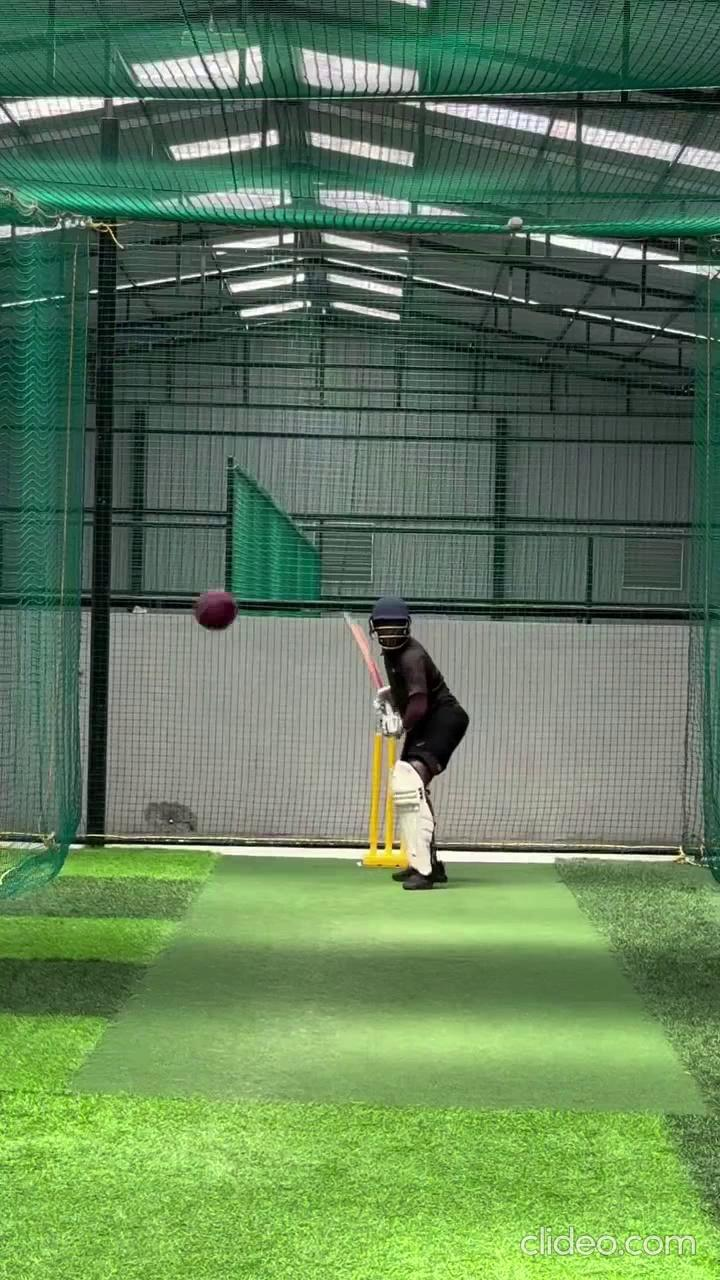bat: (347, 616, 385, 691)
